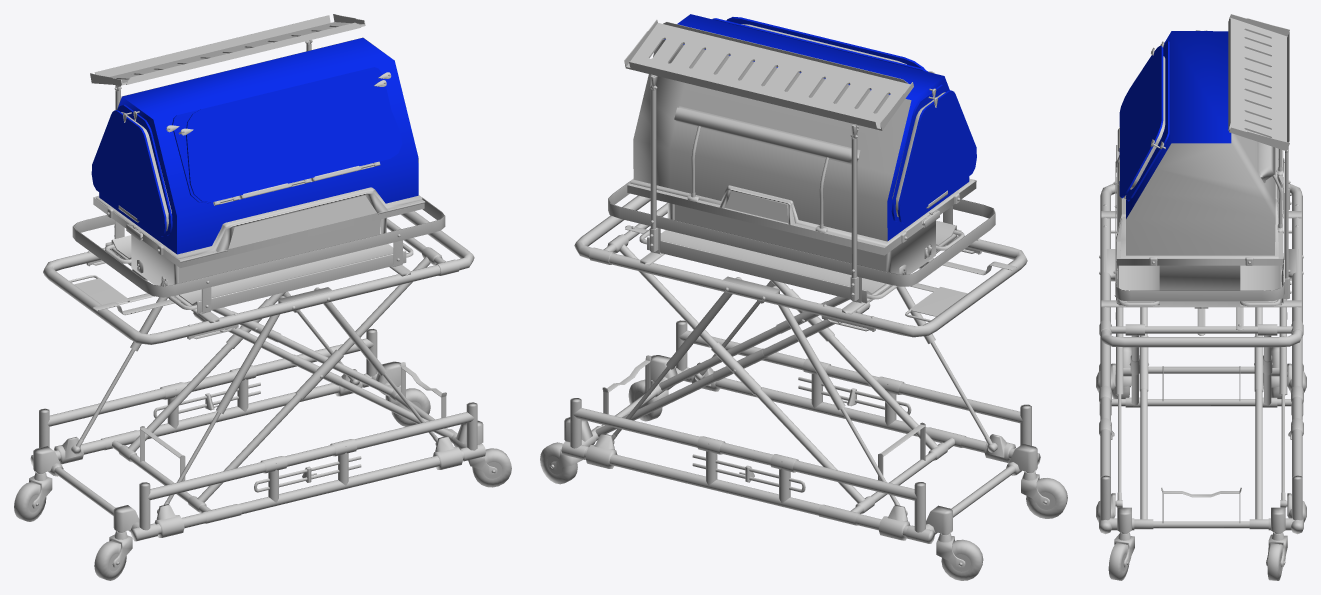
Rendered from incubator.obj.
3 renders of one model, left to right at view 1: azimuth 30°, elevation 25°; view 2: azimuth 150°, elevation 25°; view 3: azimuth 270°, elevation 25°, orthographic. The views are drawn at different scales.
Parts seen in each view (by area): view 1: VitreExt_low, Plexi_low, Barrelat_low, Cadresup_low, Tube_low, Cadre_low, PoseBout_low, Verin_low, EtagB_low, Roue_low, BaseCouvSide_low, Barrevert_low (+17 smaller); view 2: Box_low, EtagA_low, Barrelat_low, VitreExt_low, Tube_low, Cadresup_low, Cadre_low, PoseBout_low, Plexi_low, Verin_low, Roue_low, BaseCouvSide_low (+21 smaller); view 3: Box_low, Plexi_low, EtagA_low, Cadresup_low, VitreExt_low, Tube_low, BaseCouv_low, Barrelat_low, Barretrans_low, Cadre_low, Verin_low, PoseBout_low (+24 smaller).
Boxes of the visible parts, <box> form: VitreExt_low: <box>91,71,402,236</box>; Plexi_low: <box>99,38,418,254</box>; Barrelat_low: <box>47,338,474,534</box>; Cadresup_low: <box>43,211,474,344</box>; Tube_low: <box>118,247,457,512</box>; Cadre_low: <box>72,197,445,297</box>; PoseBout_low: <box>111,235,406,313</box>; Verin_low: <box>71,287,437,513</box>; EtagB_low: <box>94,15,361,84</box>; Roue_low: <box>14,388,511,580</box>; BaseCouvSide_low: <box>179,219,379,283</box>; Barrevert_low: <box>39,329,477,530</box>; Box_low: <box>633,18,911,241</box>; EtagA_low: <box>626,23,909,130</box>; Barrelat_low: <box>573,330,1022,536</box>; VitreExt_low: <box>726,17,976,223</box>; Tube_low: <box>591,234,948,513</box>; Cadresup_low: <box>574,195,1027,337</box>; Cadre_low: <box>608,181,995,286</box>; PoseBout_low: <box>647,220,956,303</box>; Plexi_low: <box>664,14,969,240</box>; Verin_low: <box>612,277,997,514</box>; Roue_low: <box>540,379,1067,580</box>; BaseCouvSide_low: <box>674,204,885,271</box>; Box_low: <box>1126,133,1275,255</box>; Plexi_low: <box>1126,31,1231,218</box>; EtagA_low: <box>1229,17,1287,141</box>; Cadresup_low: <box>1099,183,1303,347</box>; VitreExt_low: <box>1119,45,1163,198</box>; Tube_low: <box>1125,307,1277,529</box>; BaseCouv_low: <box>1159,265,1240,307</box>; Barrelat_low: <box>1100,337,1302,477</box>; Barretrans_low: <box>1111,366,1291,528</box>; Cadre_low: <box>1115,158,1284,301</box>; Verin_low: <box>1115,253,1287,507</box>; PoseBout_low: <box>1118,265,1281,305</box>.
Bounding box in the file's own units: 1.2 × 1.21 × 0.5491.
